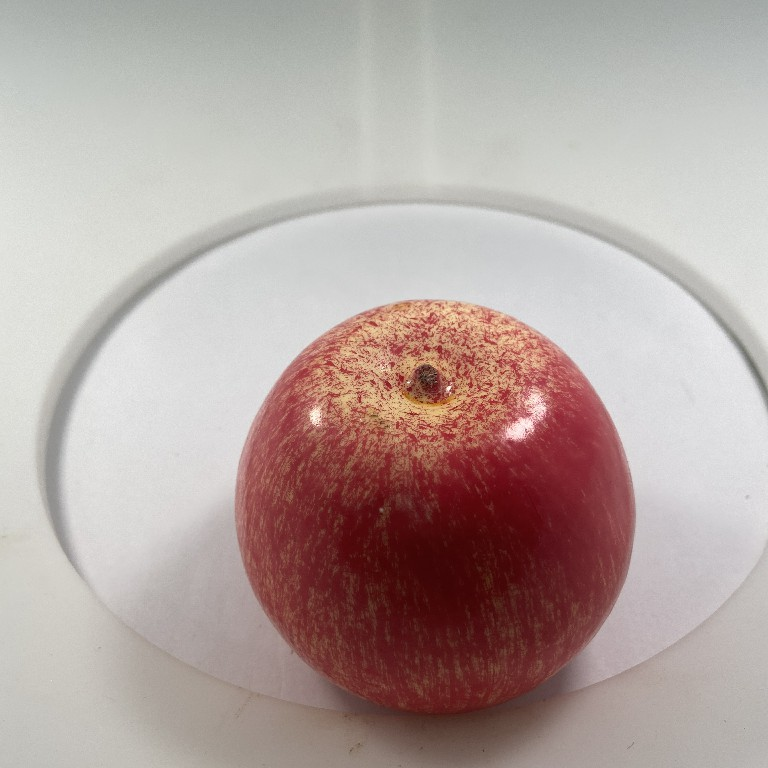fruit_apple: (225, 292, 646, 719)
